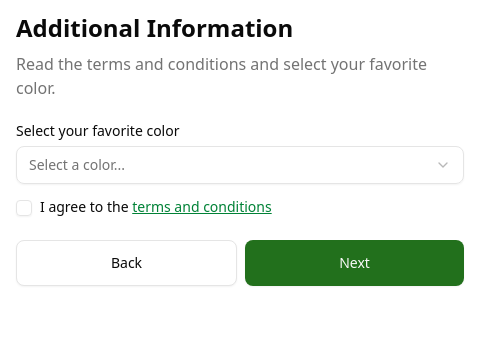
Scenario: StepTwo › shows validation errors for empty fields
The width and height of the screenshot is (484, 352).
Click the button "Next" at (354, 263), box [245, 240, 464, 286]
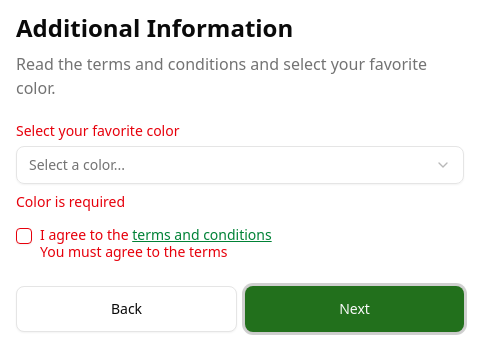
Expected: the text "Color is required" is shown, [16, 192, 125, 211]
Expected: the text "You must agree to the terms" is shown, [40, 242, 228, 261]
